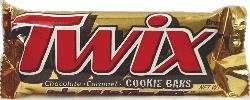grozi_11: (0, 0, 250, 100)
